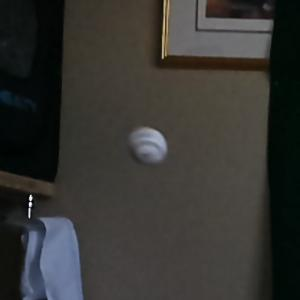ball: (126, 125, 170, 168)
